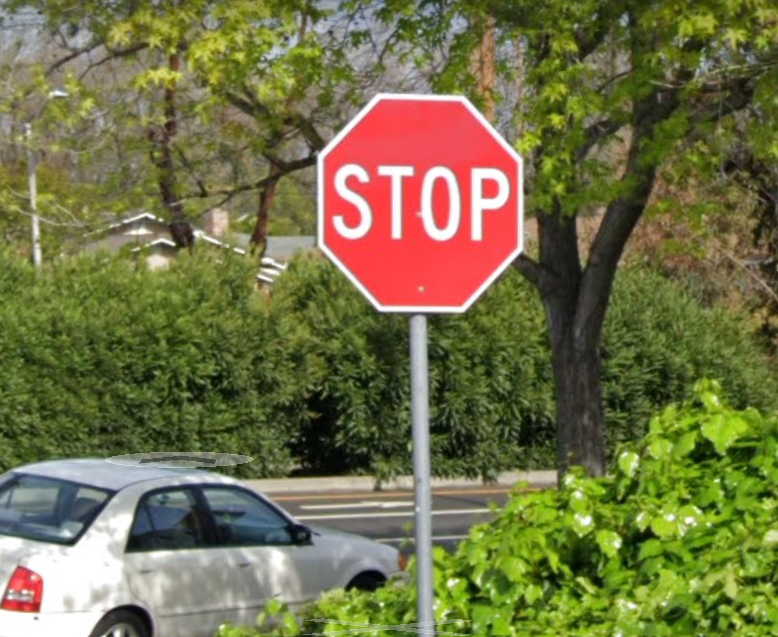stop_sign: (318, 96, 522, 313)
